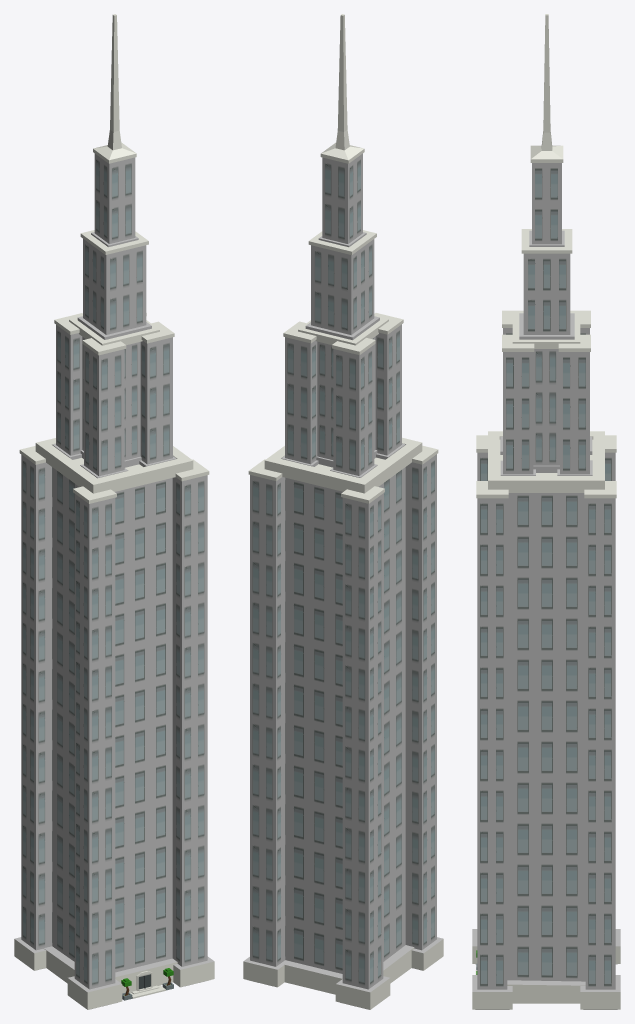
File: Sky Scraper Needle.fbx
The picture shows the model from 3 angles, left to right: view 1: azimuth 30°, elevation 25°; view 2: azimuth 150°, elevation 25°; view 3: azimuth 270°, elevation 25°; orthographic projection.
Visible parts, largest first — view 1: Sky Scraper Needle; view 2: Sky Scraper Needle; view 3: Sky Scraper Needle.
Boxes of the visible parts, x1,y1,x2,y2 form: Sky Scraper Needle: (14,14,214,1009); Sky Scraper Needle: (243,14,443,1009); Sky Scraper Needle: (472,14,620,1009).
Bounding box in the file's own units: 7.69 × 55.17 × 7.69.
